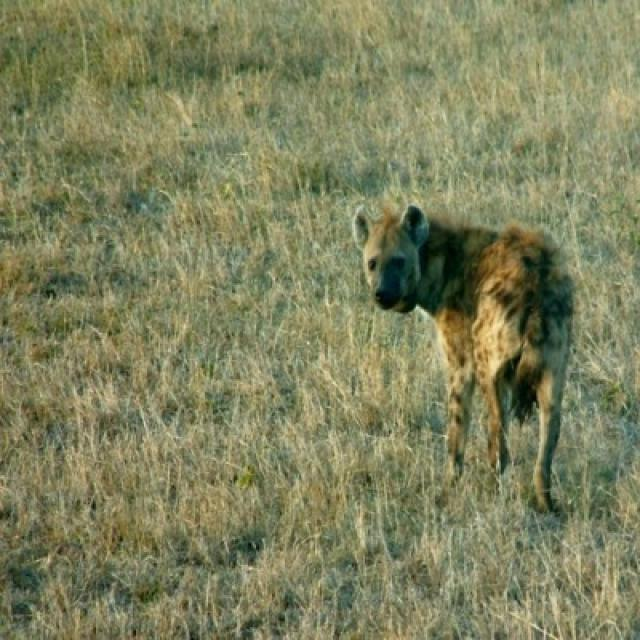hyena: (362, 205, 576, 510)
